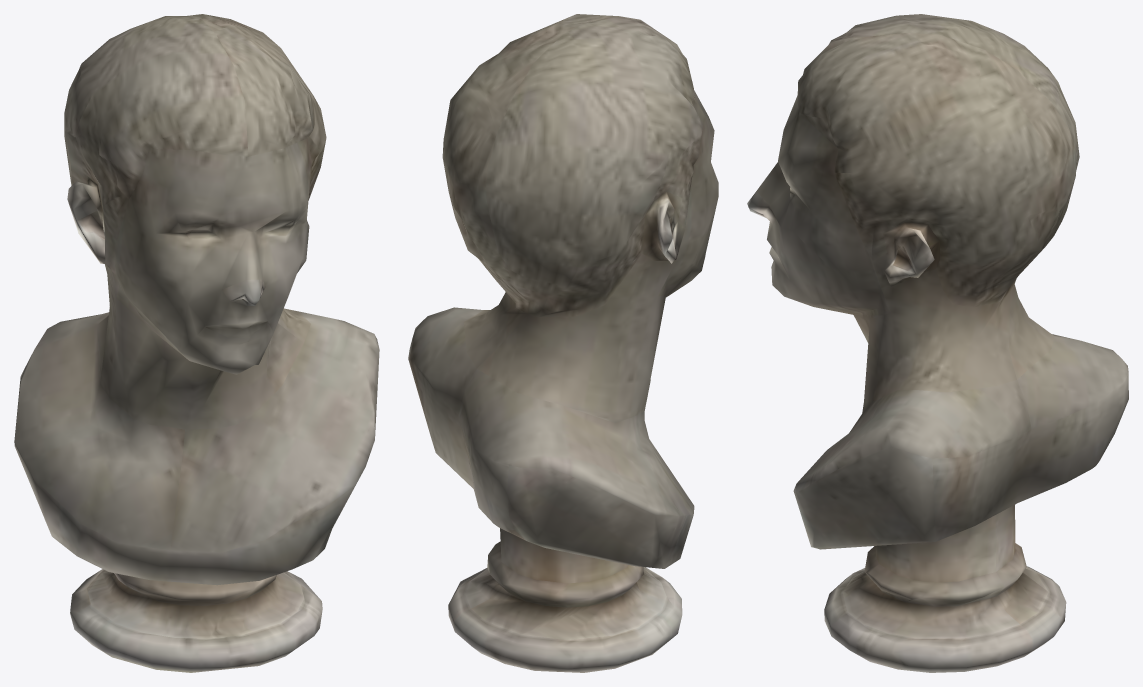
Rendered from marble_bust_01.glb.
3 views of the same model, side by side, from view 1: azimuth 30°, elevation 25°; view 2: azimuth 150°, elevation 25°; view 3: azimuth 270°, elevation 25° (orthographic). The views are drawn at different scales.
Visible parts, largest first — view 1: marble_bust_01; view 2: marble_bust_01; view 3: marble_bust_01.
Boxes of the visible parts, x1,y1,x2,y2 form: marble_bust_01: (14, 14, 379, 672); marble_bust_01: (408, 14, 718, 672); marble_bust_01: (747, 14, 1128, 672).
Size of the model in its own units: 0.2717 by 0.5148 by 0.2987.
1 material, 1 textured.
